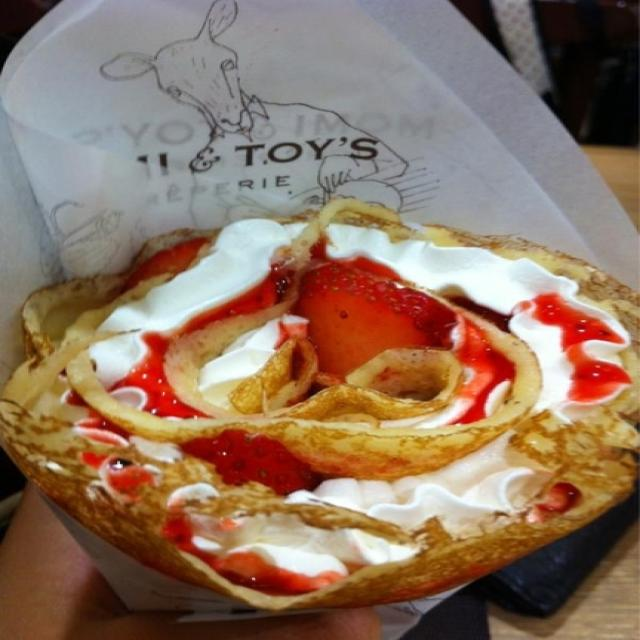豆腐料理: (4, 7, 588, 640)
